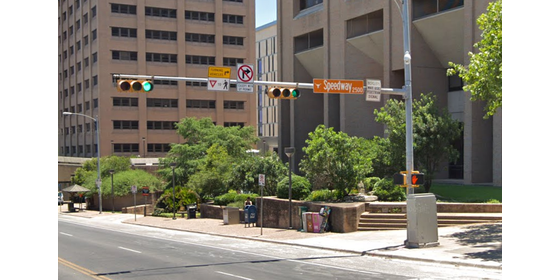bicyclists must use ped signal sign: (364, 76, 383, 104)
except with ut permit sign: (235, 84, 256, 94)
no right turn sign: (236, 60, 255, 85)
turning vehicle yield symbol to ped symbol sign: (205, 62, 231, 93)
